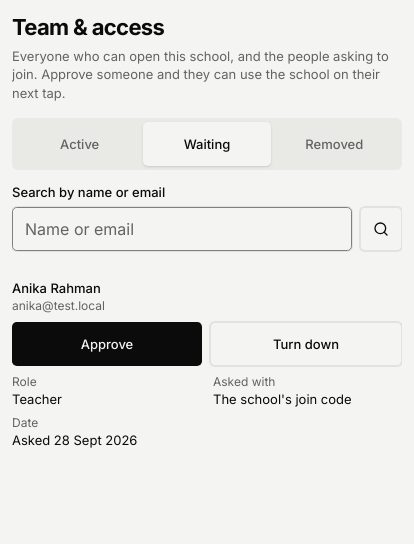
it: TeamView (D-110) › a decided request says so
Click the button with aria-label "Turn down Anika Rahman".
click(306, 344)  # box x1=210 y1=322 x2=402 y2=366
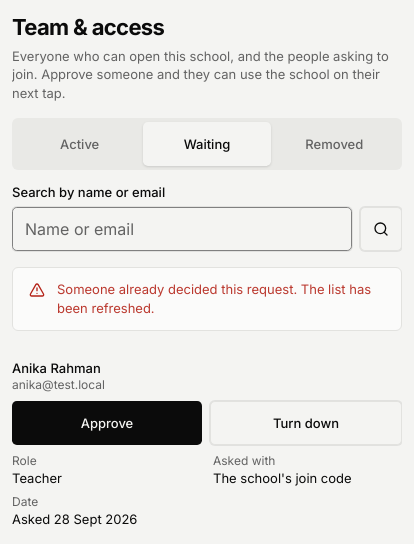
Check: the text "Someone already decided this request. The list has been refreshed." is shown, box x1=57 y1=280 x2=385 y2=318
